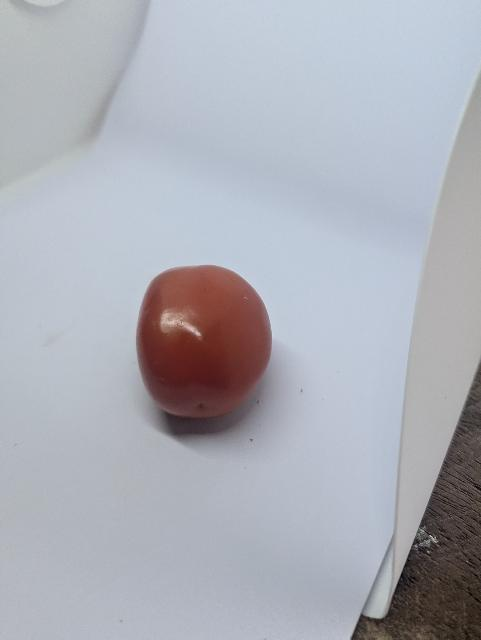red: (116, 254, 305, 432)
